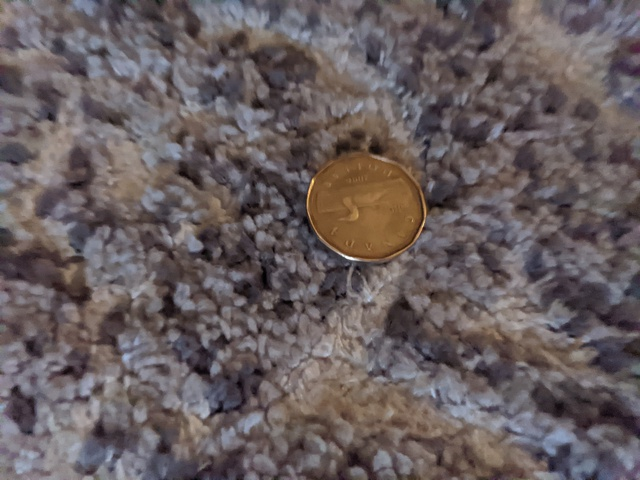loonie: (300, 142, 447, 275)
